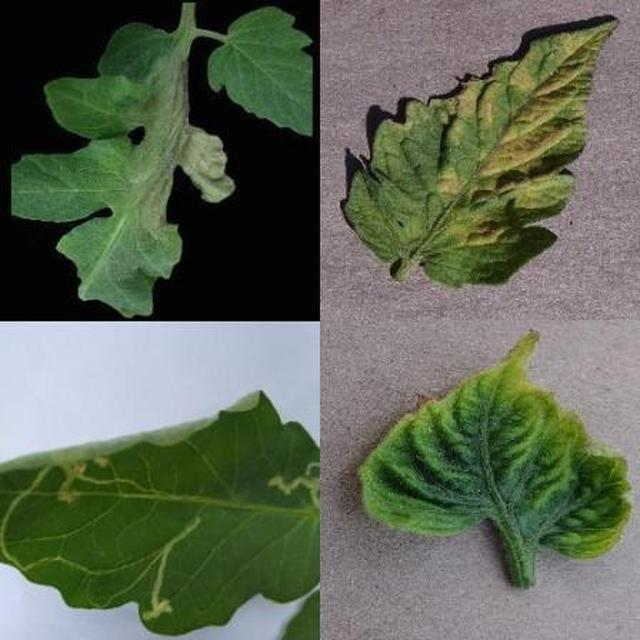Late Blight Leaf: (153, 103, 640, 640)
